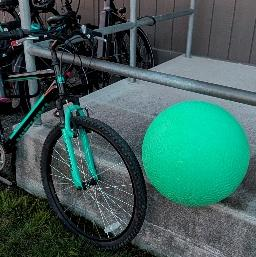algae: (139, 98, 251, 205)
